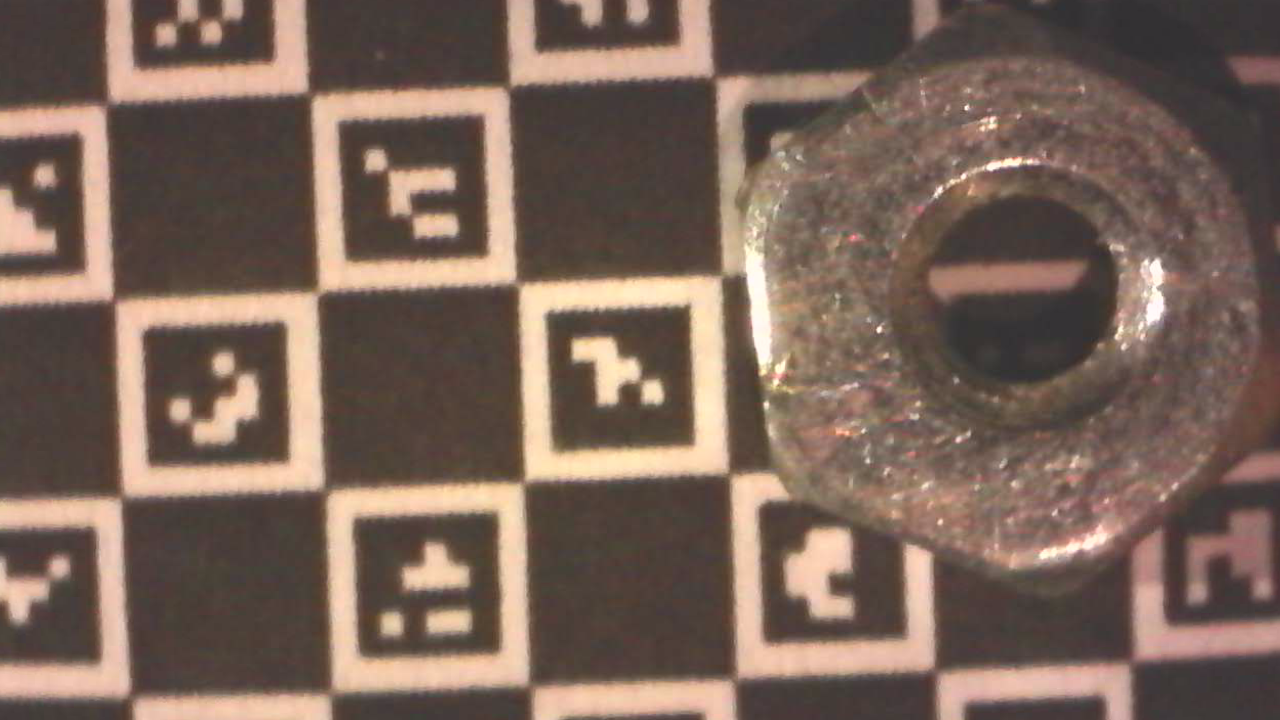Bolt: (740, 3, 1279, 608)
